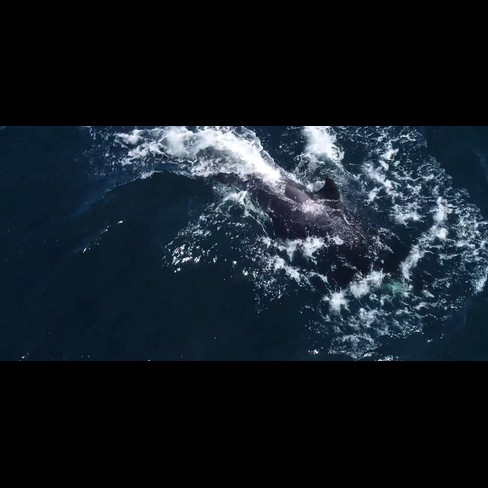orca: (258, 155, 367, 237)
